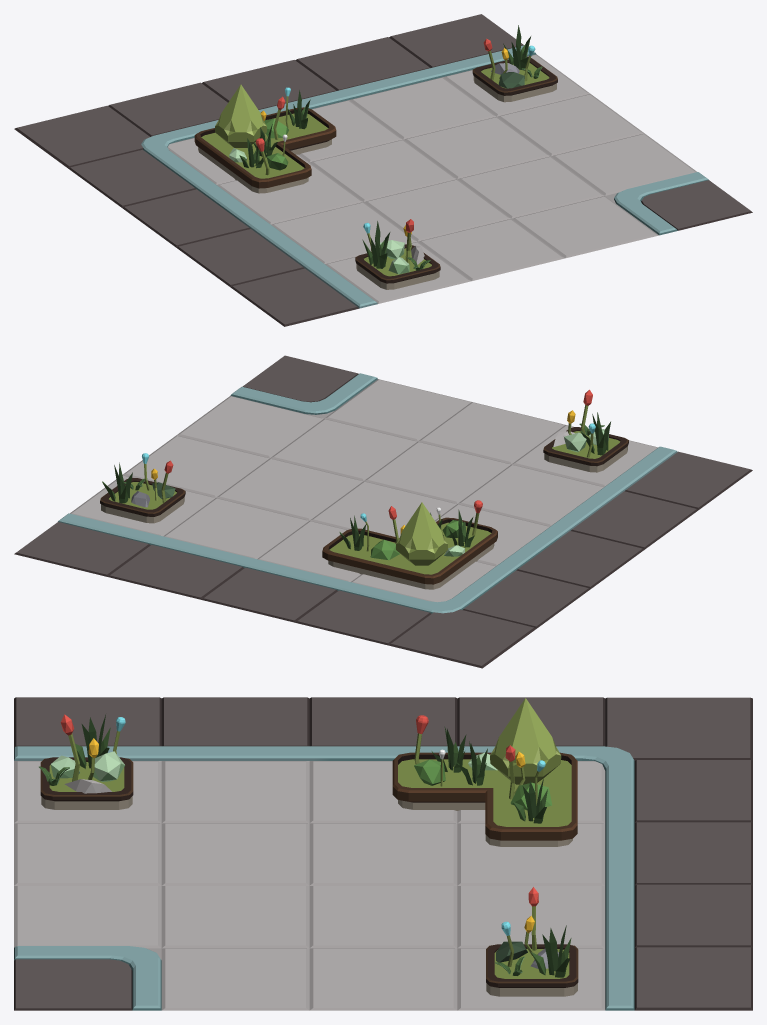
Rendered from Corner_D.glb.
3 views of the same model, one above another, from view 1: azimuth 30°, elevation 25°; view 2: azimuth 150°, elevation 25°; view 3: azimuth 270°, elevation 25° (orthographic). The views are drawn at different scales.
Visible parts, largest first — view 1: Corner_D, Cube.273, Cone.135, Cube.269, Cube.268, Grass_03.621; view 2: Corner_D, Cube.273, Cone.135, Cube.269, Cube.268; view 3: Corner_D, Cube.273, Cone.135, Cube.269, Cube.268, Grass_03.622, Grass_03.631, Grass_03.621, Tree_03.1493, Flower03.1758, Grass_03.632, Tree_03.1504 (+3 smaller).
Boxes of the visible parts, x1,y1,x2,y2 form: Corner_D: (14, 14, 752, 326); Cube.273: (194, 107, 336, 193); Cone.135: (215, 84, 266, 147); Cube.269: (472, 56, 557, 102); Cube.268: (355, 244, 440, 289); Grass_03.621: (362, 221, 390, 268); Corner_D: (14, 355, 752, 668); Cube.273: (322, 517, 497, 589); Cone.135: (396, 502, 447, 565); Cube.269: (100, 477, 185, 523); Cube.268: (543, 427, 628, 472); Corner_D: (14, 697, 752, 1010); Cube.273: (392, 752, 577, 846); Cone.135: (490, 698, 561, 784); Cube.269: (486, 944, 578, 996); Cube.268: (40, 757, 133, 809); Grass_03.622: (531, 925, 571, 977); Grass_03.631: (512, 778, 547, 823); Grass_03.621: (75, 714, 110, 768); Tree_03.1493: (93, 751, 124, 781); Flower03.1758: (60, 714, 98, 781); Grass_03.632: (431, 726, 466, 772); Tree_03.1504: (414, 759, 445, 785).
Size of what is drawn, in the model's own units: 16 by 2.35 by 16.
Materials: 1 (1 with a texture image).
